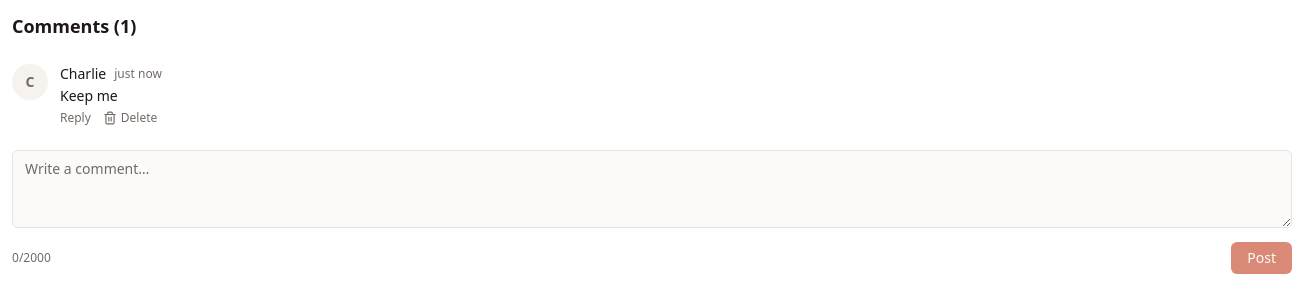
it: CommentSection › keeps the comment and shows an error when delete fails
Click the button with aria-label "Delete comment" at (130, 118), box left=103, top=110, right=157, bottom=126
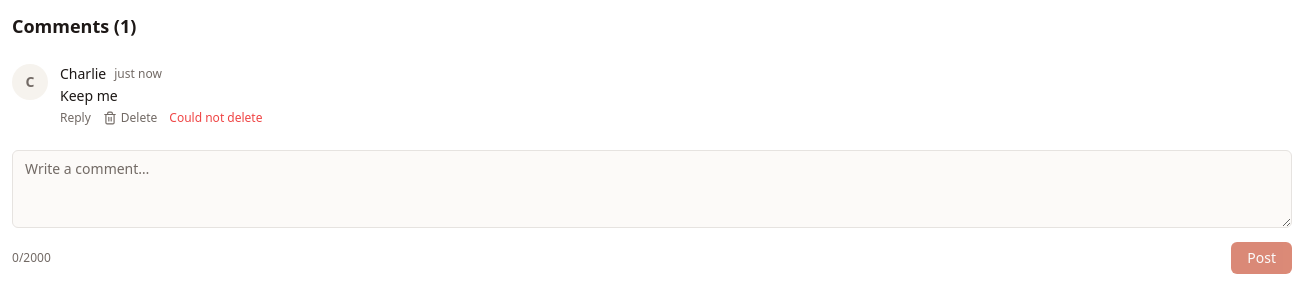
Check: the text "Keep me" is shown, box left=60, top=86, right=118, bottom=105
Check: the text "Could not delete" is shown, box left=169, top=110, right=262, bottom=126
